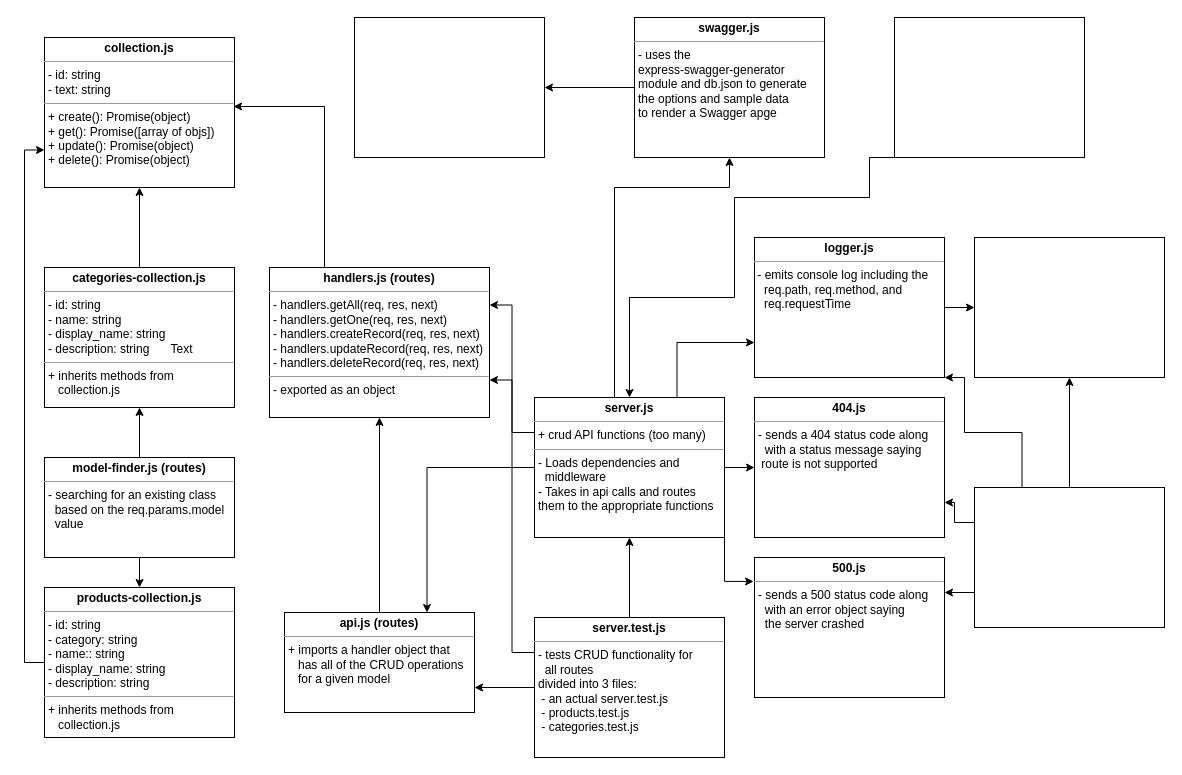
The diagram is 1182 pixels wide and 775 high, and some of its shapes have lost their labels. Each missing label, with the centre of its shape:
db.json - contains sample data to use for Swagger examples: the point at 449,87
index.js - main entrypoint - starts the server using desired configuration: the point at 989,87
middleware.test.js -tests functionality middleware: the point at 1069,557
timestamp.js - Generates requestTime property to be used in logger.js: the point at 1069,307
